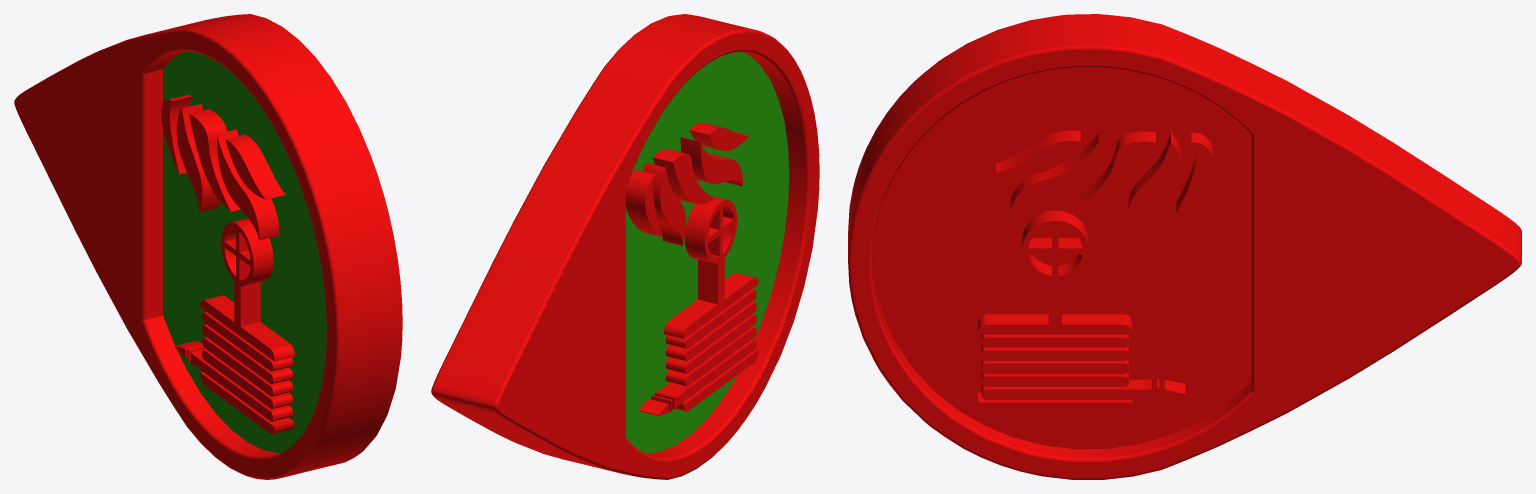
Rendered from ICONO MANGERA.fbx.
3 renders of one model, left to right at view 1: azimuth 30°, elevation 25°; view 2: azimuth 150°, elevation 25°; view 3: azimuth 270°, elevation 25°, orthographic. The views are drawn at different scales.
Parts seen in each view (by area): view 1: Body71; view 2: Body71; view 3: Body71.
Part boxes in pixels (x1,y1,x2,y2): Body71: (14,14,402,479); Body71: (431,14,819,479); Body71: (848,14,1521,479).
Size of the model in its own units: 112 by 675 by 947.
